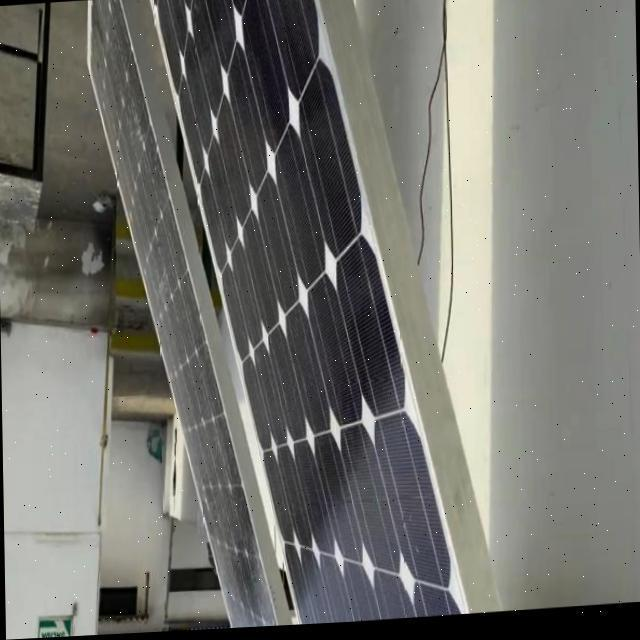Normal Solar Panel: (149, 0, 472, 634)
